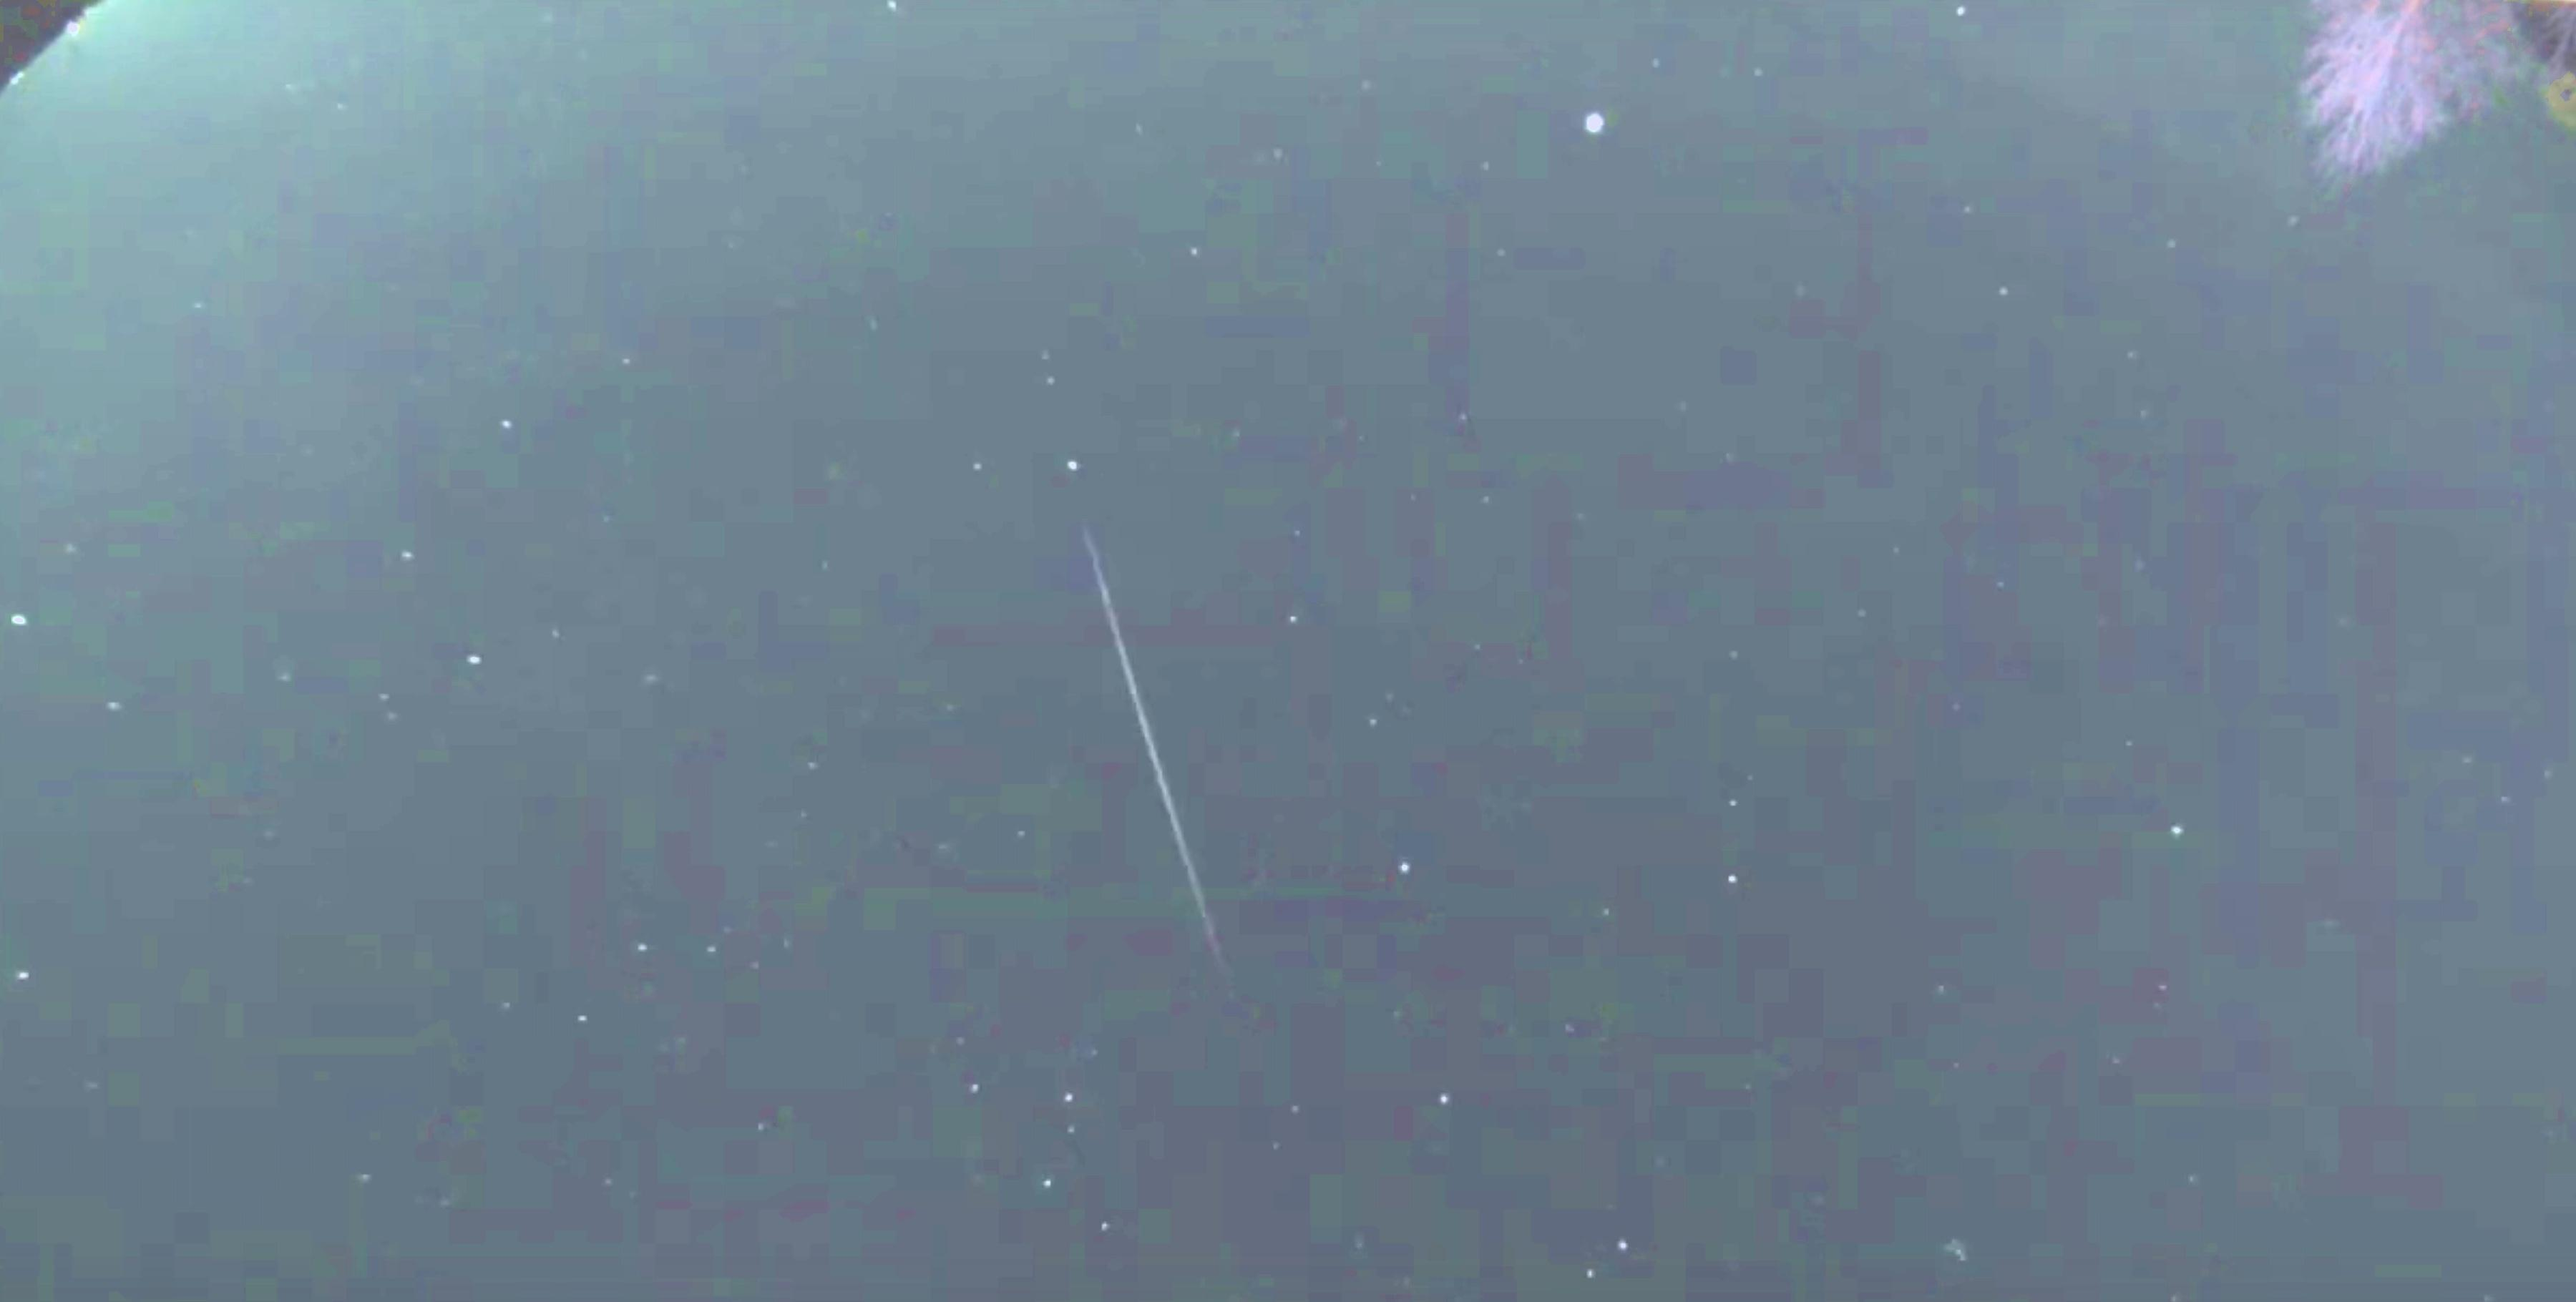meteorite: (1013, 458, 1261, 991)
